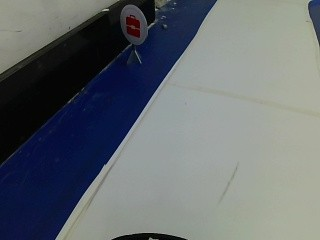company: (111, 3, 152, 44)
